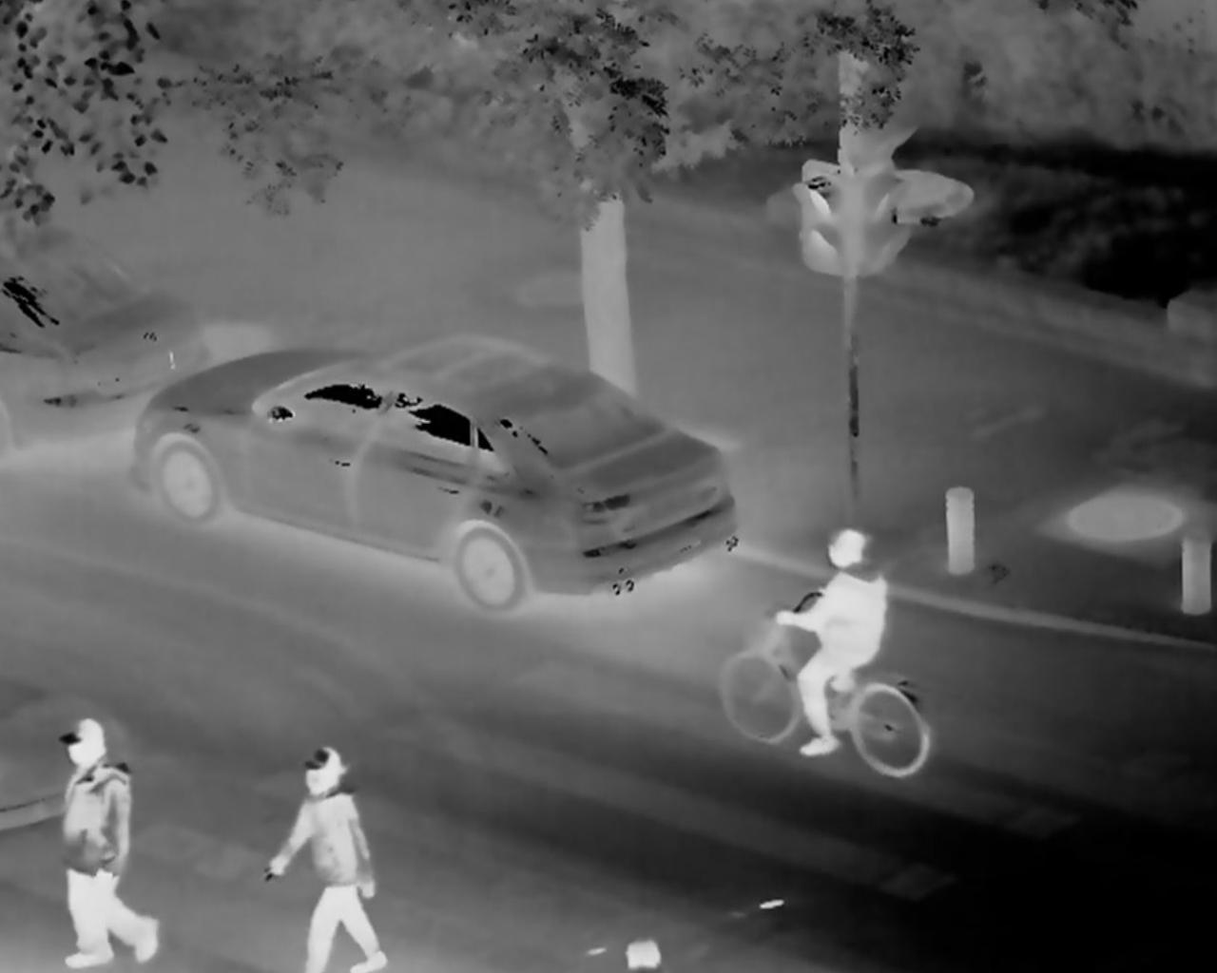person: (267, 738, 391, 973), (786, 527, 892, 770), (65, 722, 156, 973)
